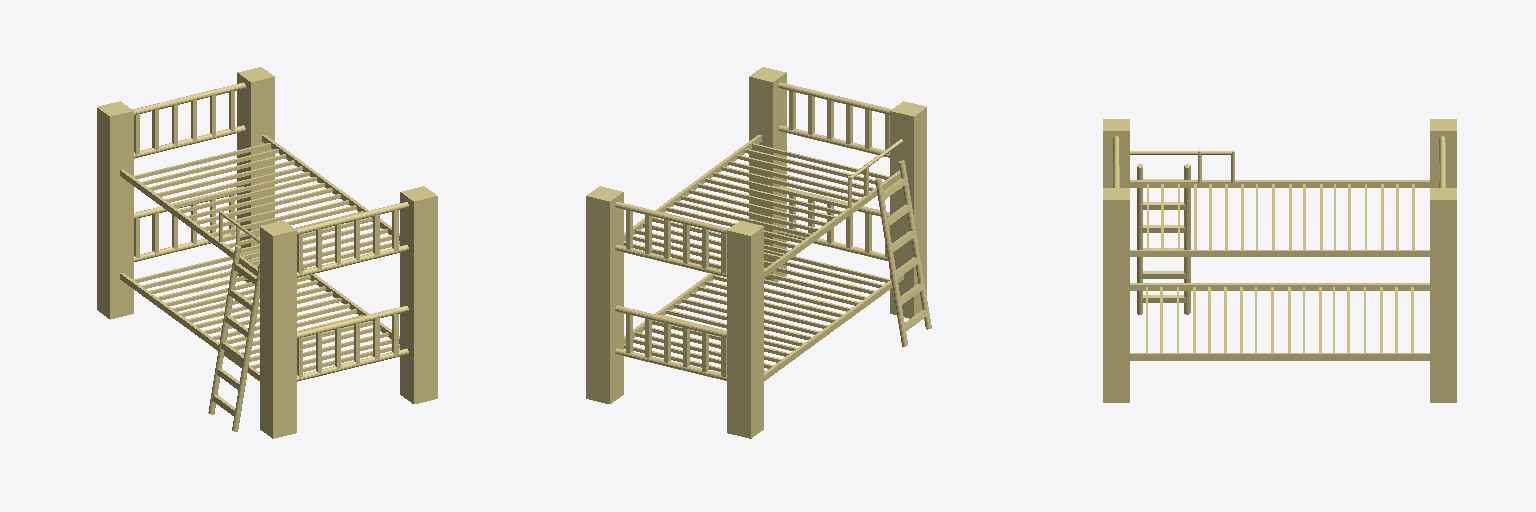
Rendered from Bed.obj.
The picture shows the model from 3 angles: view 1: azimuth 30°, elevation 25°; view 2: azimuth 150°, elevation 25°; view 3: azimuth 270°, elevation 25°; orthographic projection.
Parts seen in each view (by area): view 1: Box056; view 2: Box056; view 3: Box056.
Part boxes in pixels (x1,y1,x2,y2): Box056: (97, 67, 437, 438); Box056: (586, 67, 931, 438); Box056: (1103, 119, 1456, 402).
Bounding box in the file's own units: 342 × 356 × 559.